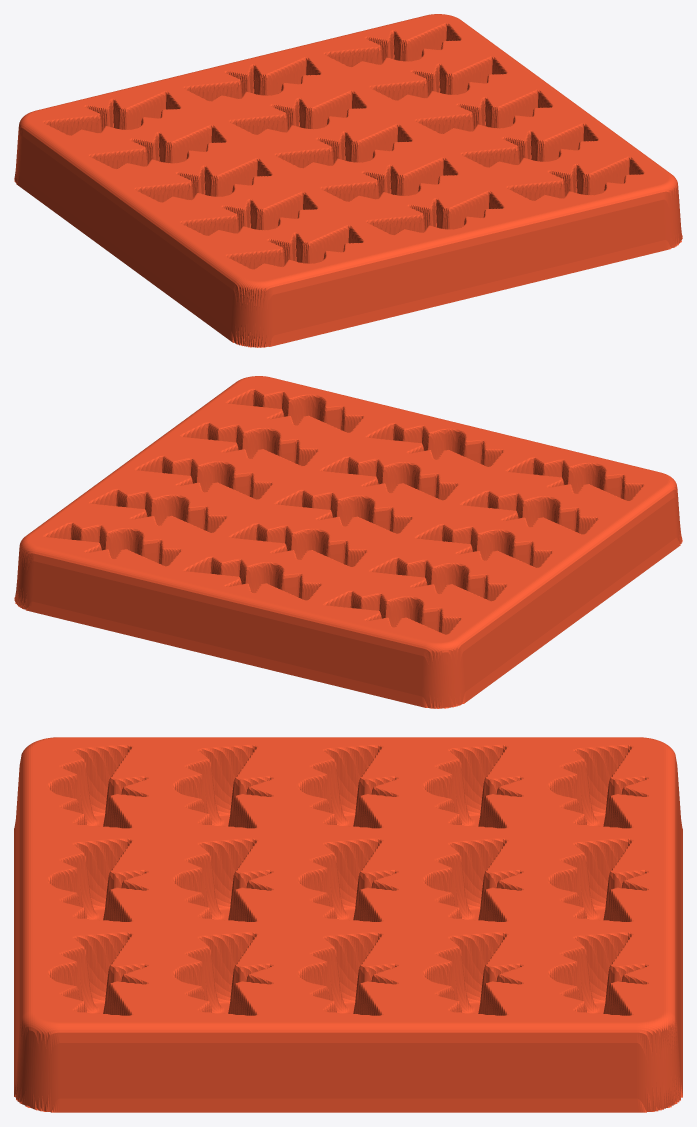
File: mold.glb
The picture shows the model from 3 angles, top to bottom: view 1: azimuth 30°, elevation 25°; view 2: azimuth 150°, elevation 25°; view 3: azimuth 270°, elevation 25°; orthographic projection. The views are drawn at different scales.
Parts seen in each view (by area): view 1: geometry_0; view 2: geometry_0; view 3: geometry_0.
Boxes of the visible parts, x1,y1,x2,y2 form: geometry_0: (14,14,682,347); geometry_0: (14,376,682,708); geometry_0: (14,737,682,1112).
Bounding box in the file's own units: 0.1415 × 0.0182 × 0.1335.
